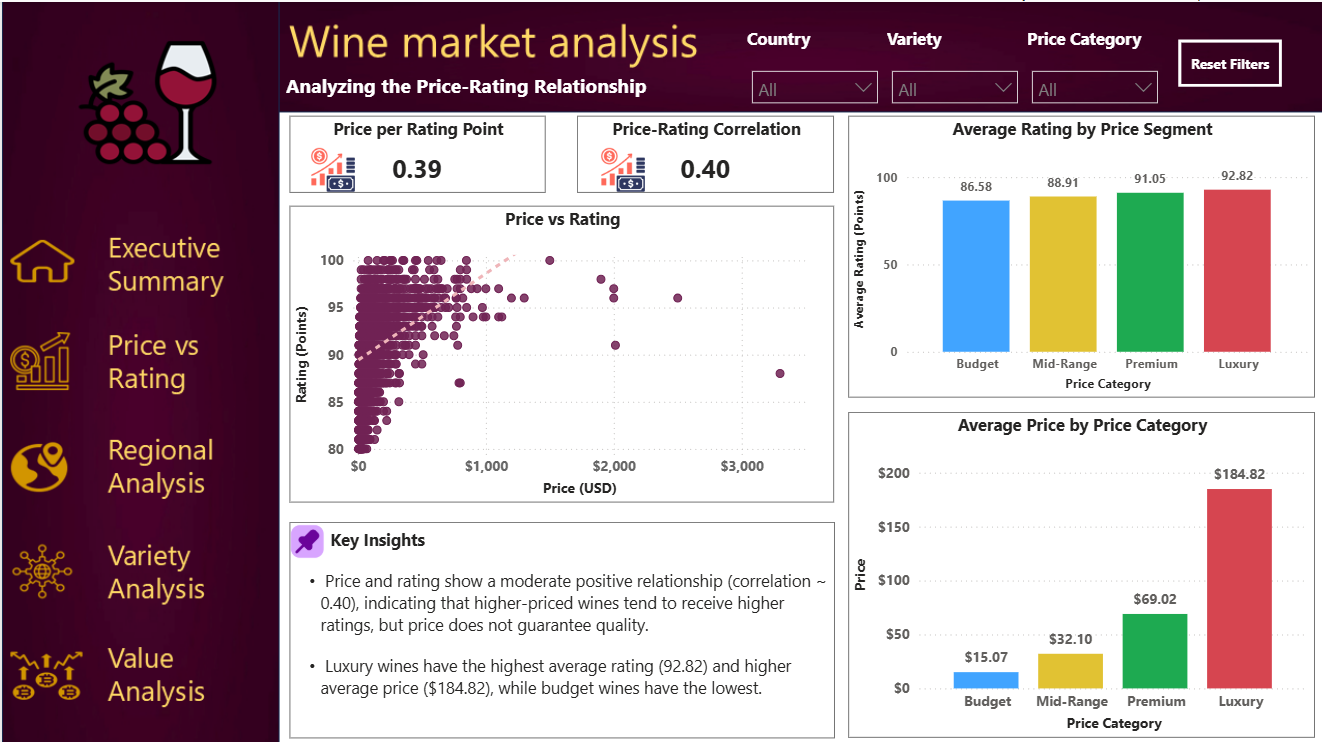

This screenshot's page, from the dashboard's own definition file:
{"tool":"powerbi","page":{"name":"Price vs Rating","canvas":[1280,720],"ordinal":1},"visuals":[{"type":"slicer","title":"Country","fields":{"Values":["wine_data wine_insight.country"]},"box":[719,24.1,135.1,77.2],"z":0},{"type":"slicer","title":"Variety","fields":{"Values":["wine_data wine_insight.variety"]},"box":[854.2,24.1,135.1,77.2],"z":1000},{"type":"scatterChart","title":"Price vs Rating ","fields":{"X":["wine_data wine_insight.price"],"Y":["wine_data wine_insight.points"]},"box":[277.2,196.2,525.6,286.8],"z":3000},{"type":"clusteredColumnChart","title":"Average Rating by Price Segment","fields":{"Category":["wine_data wine_insight.price_category"],"Y":["Avg(wine_data wine_insight.points)"]},"box":[817.3,109.9,450.6,272],"z":4000},{"type":"clusteredColumnChart","title":"Average Price by Price Category","fields":{"Category":["wine_data wine_insight.price_category"],"Y":["Avg(wine_data wine_insight.price)"]},"box":[817.3,395.6,450.6,314.6],"z":5000},{"type":"slicer","title":"Price Category","fields":{"Values":["wine_data wine_insight.price_category"]},"box":[989.3,24.1,135.1,77.2],"z":6000},{"type":"card","title":"Price per Rating Point","fields":{"Values":["wine_data wine_insight.Price to Quality"]},"box":[277.2,109.8,247,74.1],"z":7000},{"type":"card","title":"Price-Rating Correlation","fields":{"Values":["wine_data wine_insight.Price Rating Correlation"]},"box":[555,109.9,248.4,74.1],"z":8000},{"type":"textbox","box":[269,62.7,430.7,38.6],"z":9000},{"type":"textbox","box":[277.5,501.9,526,208.7],"z":10000},{"type":"image","box":[277.5,501.9,34.3,37.1],"z":11000},{"type":"image","box":[277.5,140.1,83.8,44],"z":12000},{"type":"image","box":[555,140.1,89.3,44],"z":13000},{"type":"actionButton","box":[1135.3,36.2,100.2,45.9],"z":13001},{"type":"actionButton","box":[0,306.1,268.5,80.7],"z":13002},{"type":"actionButton","box":[0,403.5,268.5,80.7],"z":13003},{"type":"actionButton","box":[0,512,268.5,80.7],"z":13004},{"type":"actionButton","box":[0,610.8,268.5,80.7],"z":13005},{"type":"actionButton","box":[0,214.3,268.5,80.7],"z":13006}]}

Visuals, with their boxes in screenshot pixels (x1, y1, x2, y2), scaled from the page's 1280x720 canvas onto the 1322x742 screenshot:
"Country" slicer: pyautogui.locateOnScreen(743, 25, 882, 104)
"Variety" slicer: pyautogui.locateOnScreen(882, 25, 1022, 104)
"Price vs Rating " scatterChart: pyautogui.locateOnScreen(286, 202, 829, 498)
"Average Rating by Price Segment" clusteredColumnChart: pyautogui.locateOnScreen(844, 113, 1310, 394)
"Average Price by Price Category" clusteredColumnChart: pyautogui.locateOnScreen(844, 408, 1310, 732)
"Price Category" slicer: pyautogui.locateOnScreen(1022, 25, 1161, 104)
"Price per Rating Point" card: pyautogui.locateOnScreen(286, 113, 541, 190)
"Price-Rating Correlation" card: pyautogui.locateOnScreen(573, 113, 830, 190)
textbox: pyautogui.locateOnScreen(278, 65, 723, 104)
textbox: pyautogui.locateOnScreen(287, 517, 830, 732)
image: pyautogui.locateOnScreen(287, 517, 322, 555)
image: pyautogui.locateOnScreen(287, 144, 373, 190)
image: pyautogui.locateOnScreen(573, 144, 665, 190)
actionButton: pyautogui.locateOnScreen(1173, 37, 1276, 85)
actionButton: pyautogui.locateOnScreen(0, 315, 277, 399)
actionButton: pyautogui.locateOnScreen(0, 416, 277, 499)
actionButton: pyautogui.locateOnScreen(0, 528, 277, 611)
actionButton: pyautogui.locateOnScreen(0, 629, 277, 713)
actionButton: pyautogui.locateOnScreen(0, 221, 277, 304)
